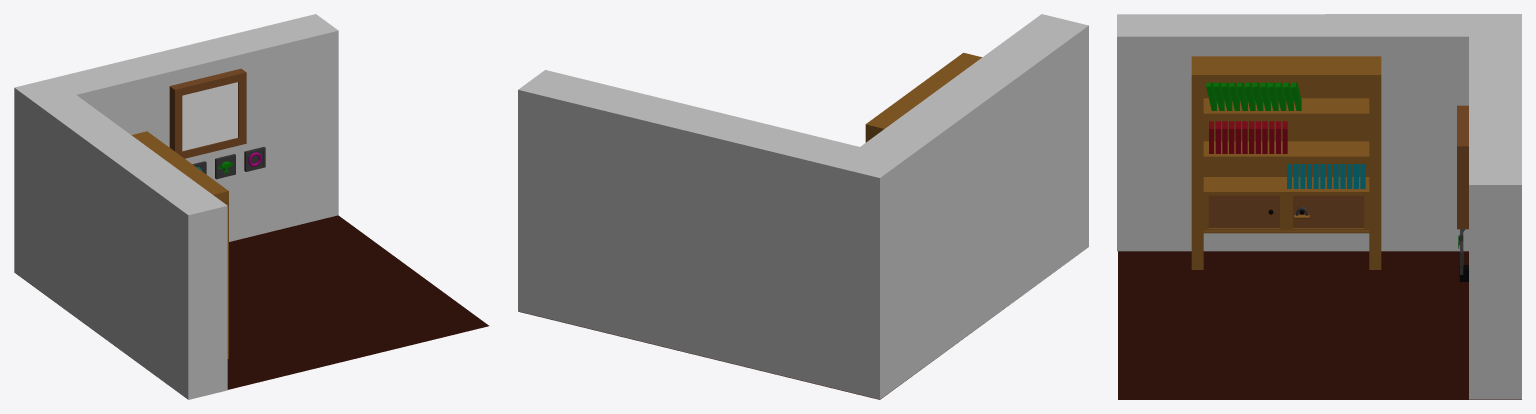
Rendered from Corner 2.fbx.
3 views of the same model, side by side, from view 1: azimuth 30°, elevation 25°; view 2: azimuth 150°, elevation 25°; view 3: azimuth 270°, elevation 25° (orthographic). The views are drawn at different scales.
Visible parts, largest first — view 1: Cube, Plane, Cube.015, Cube.014, Cube.001, Cube.008; view 2: Cube, Cube.001; view 3: Cube, Plane, Cube.001, Cube.003, Cube.002, Cube.011, Cube.007, Cube.009, Cube.006, Cube.010, Cube.014.
Part boxes in pixels (x1,y1,x2,y2): Cube: (14, 14, 338, 399); Plane: (14, 215, 488, 389); Cube.015: (182, 82, 237, 151); Cube.014: (169, 68, 246, 158); Cube.001: (131, 131, 228, 358); Cube.008: (192, 147, 265, 179); Cube: (518, 14, 1088, 399); Cube.001: (865, 52, 981, 142); Cube: (1117, 14, 1521, 399); Plane: (1118, 251, 1521, 399); Cube.001: (1191, 56, 1381, 269); Cube.003: (1203, 141, 1369, 163); Cube.002: (1203, 98, 1369, 121); Cube.011: (1206, 82, 1301, 110); Cube.007: (1208, 195, 1279, 227); Cube.009: (1209, 121, 1287, 153); Cube.006: (1293, 195, 1364, 227); Cube.010: (1287, 164, 1365, 188); Cube.014: (1457, 105, 1468, 229).
Size of the model in its own units: 886 by 523 by 885.
